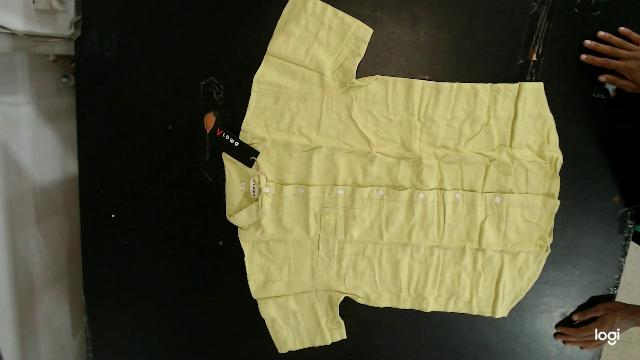new-garment: (211, 0, 562, 352)
